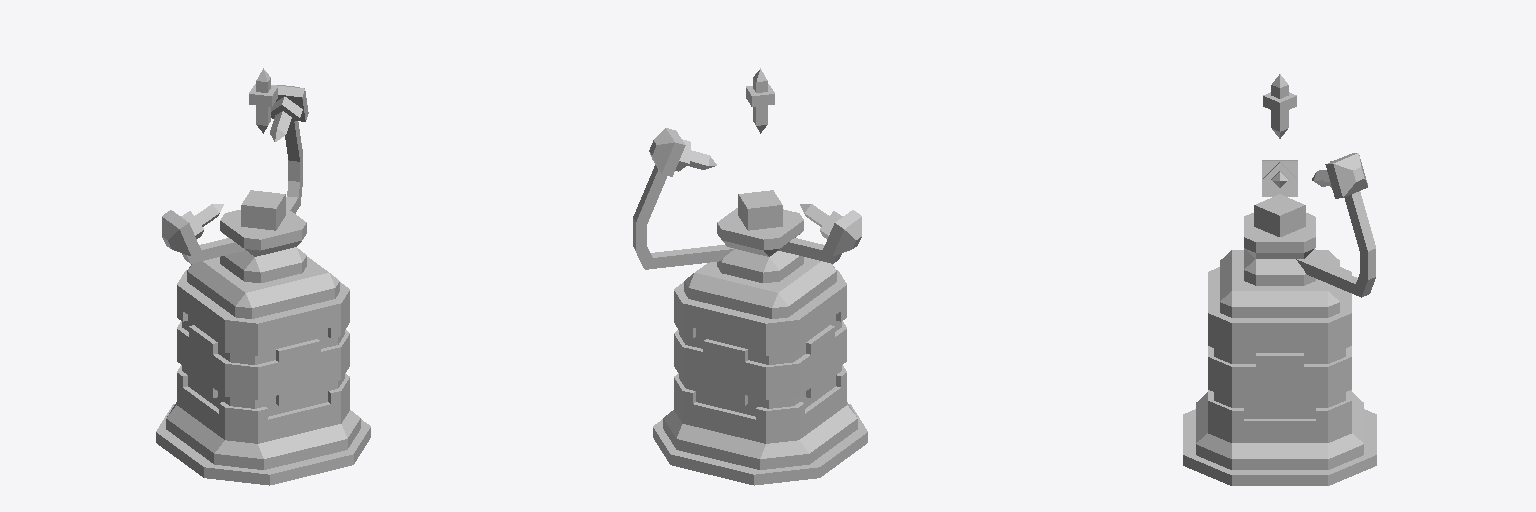
Rendered from variegator_inventory.obj.
3 views of the same model, side by side, from view 1: azimuth 30°, elevation 25°; view 2: azimuth 150°, elevation 25°; view 3: azimuth 270°, elevation 25° (orthographic).
Parts seen in each view (by area): view 1: VARIAGATOR_BODY_Cube.068, VARIAGATOR_LIMB_LONG_Cube.070, VARIAGATOR_LIMB_SHORT_Cube.074, VARIAGATOR_LIMB_UNCONNECTED_Cube.077; view 2: VARIAGATOR_BODY_Cube.068, VARIAGATOR_LIMB_LONG_Cube.070, VARIAGATOR_LIMB_SHORT_Cube.074, VARIAGATOR_LIMB_UNCONNECTED_Cube.077; view 3: VARIAGATOR_BODY_Cube.068, VARIAGATOR_LIMB_LONG_Cube.070, VARIAGATOR_LIMB_SHORT_Cube.074, VARIAGATOR_LIMB_UNCONNECTED_Cube.077.
Boxes of the visible parts, x1=… form: VARIAGATOR_BODY_Cube.068: x1=156, y1=190, x2=370, y2=485; VARIAGATOR_LIMB_LONG_Cube.070: x1=270, y1=85, x2=308, y2=213; VARIAGATOR_LIMB_SHORT_Cube.074: x1=162, y1=204, x2=245, y2=263; VARIAGATOR_LIMB_UNCONNECTED_Cube.077: x1=249, y1=68, x2=277, y2=133; VARIAGATOR_BODY_Cube.068: x1=653, y1=190, x2=867, y2=485; VARIAGATOR_LIMB_LONG_Cube.070: x1=633, y1=128, x2=733, y2=269; VARIAGATOR_LIMB_SHORT_Cube.074: x1=778, y1=204, x2=861, y2=263; VARIAGATOR_LIMB_UNCONNECTED_Cube.077: x1=746, y1=68, x2=774, y2=133; VARIAGATOR_BODY_Cube.068: x1=1183, y1=194, x2=1376, y2=485; VARIAGATOR_LIMB_LONG_Cube.070: x1=1296, y1=153, x2=1375, y2=297; VARIAGATOR_LIMB_SHORT_Cube.074: x1=1262, y1=160, x2=1297, y2=196; VARIAGATOR_LIMB_UNCONNECTED_Cube.077: x1=1263, y1=74, x2=1296, y2=138.
Bounding box in the file's own units: 1.09 × 2.12 × 1.